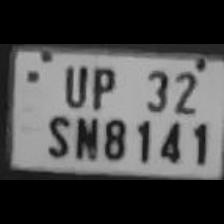1: (183, 116, 211, 164), (130, 113, 155, 163)
2: (169, 66, 200, 116)
3: (140, 65, 170, 113)
4: (154, 115, 182, 165)
8: (100, 113, 128, 161)
N: (70, 112, 100, 160)
P: (87, 62, 119, 110)
S: (42, 110, 72, 158)
U: (58, 60, 88, 106)
